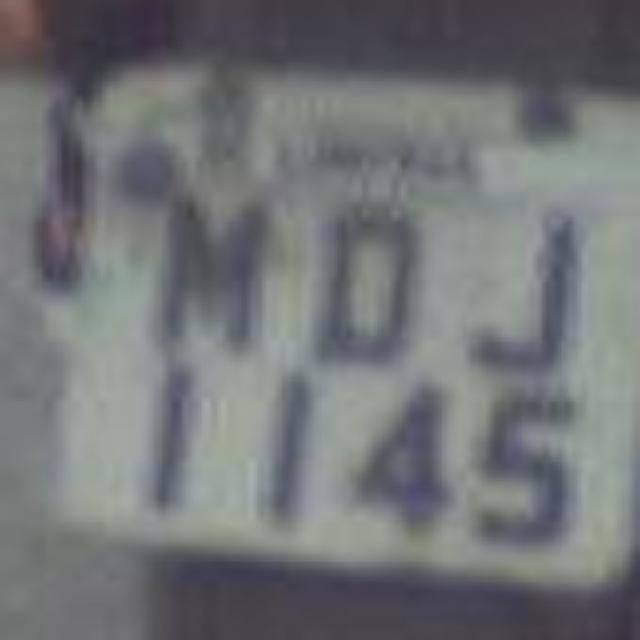1: (244, 356, 331, 529), (124, 344, 208, 516)
4: (344, 360, 471, 548)
5: (460, 385, 588, 540)
J: (456, 195, 596, 380)
M: (144, 180, 276, 368)
